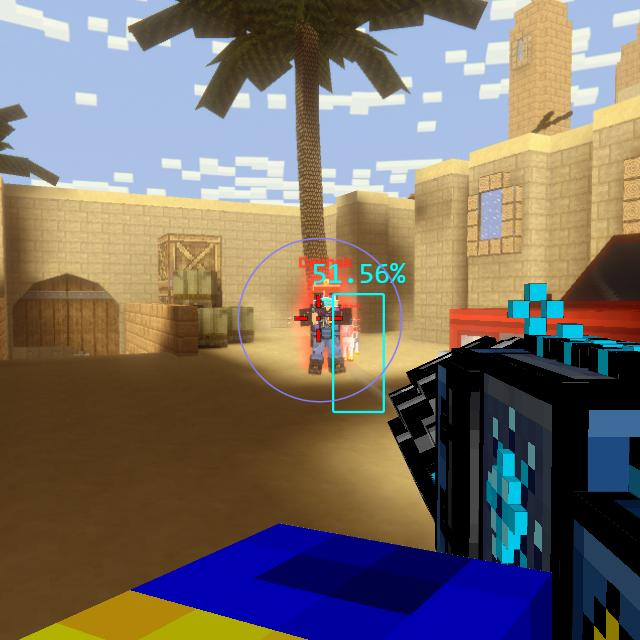Enemy: (296, 279, 350, 373)
